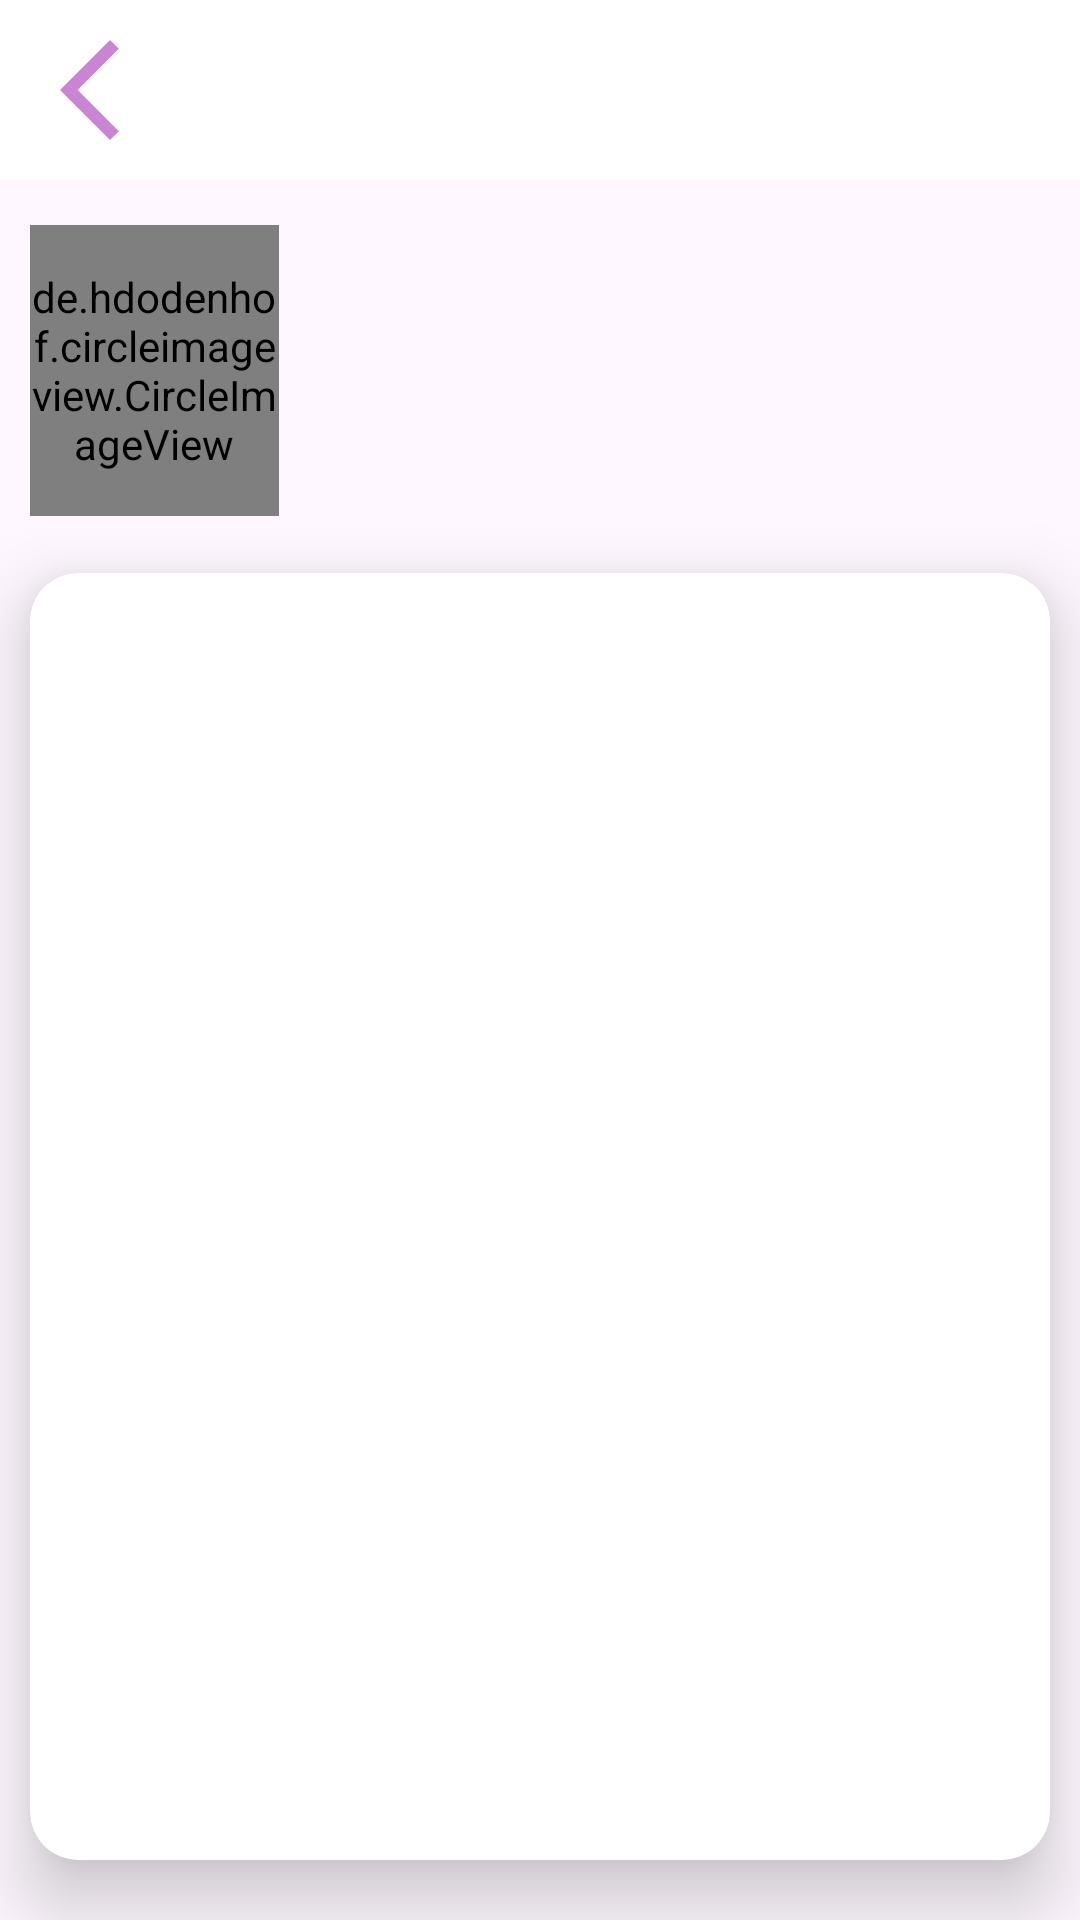

Named icons in this screenshot (1080x1920) and their bounding boxes, {"left": x1, "top": y1, "right": x2, "bottom": y2}:
back: {"left": 60, "top": 40, "right": 119, "bottom": 140}
